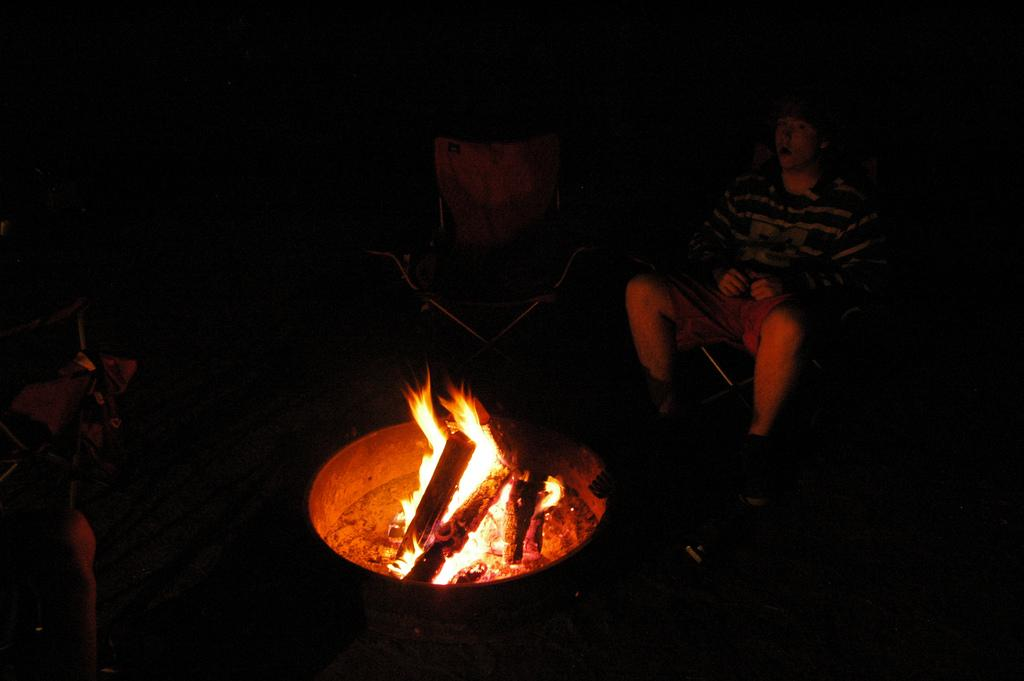fire: (462, 420, 500, 493), (413, 405, 438, 478), (463, 530, 493, 570)
